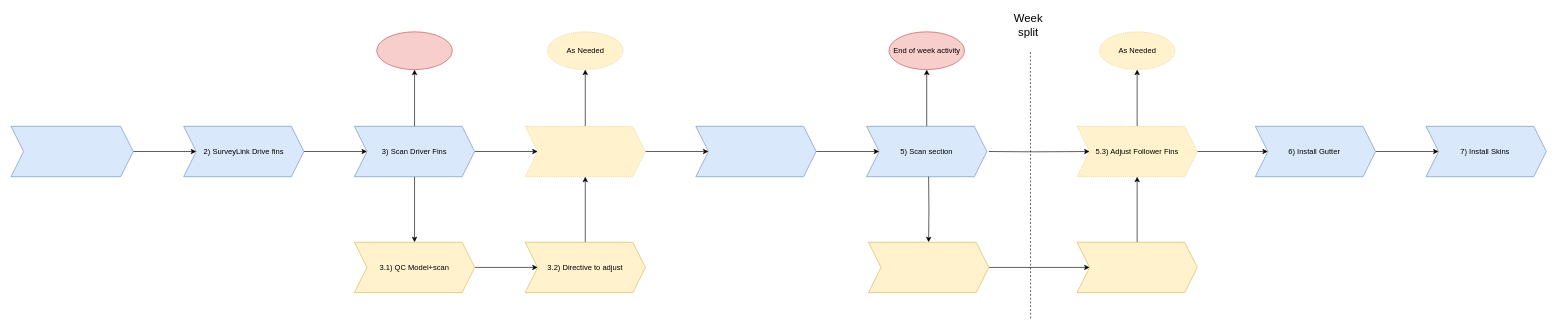
This 1557x330 diagram has some shape labels left out. Here are the shapes that lost their labels. From the top down, the centre of each, then its label:
point 414,50: End of Day Activity
point 71,151: 1) Loose Fit Drivers Fins
point 584,151: 3.3) Adjust Driver Fins
point 755,151: 4) Install Follower Fins
point 928,267: 5.1) QC Model+scan
point 1136,267: 5.2) Directive to adjust
